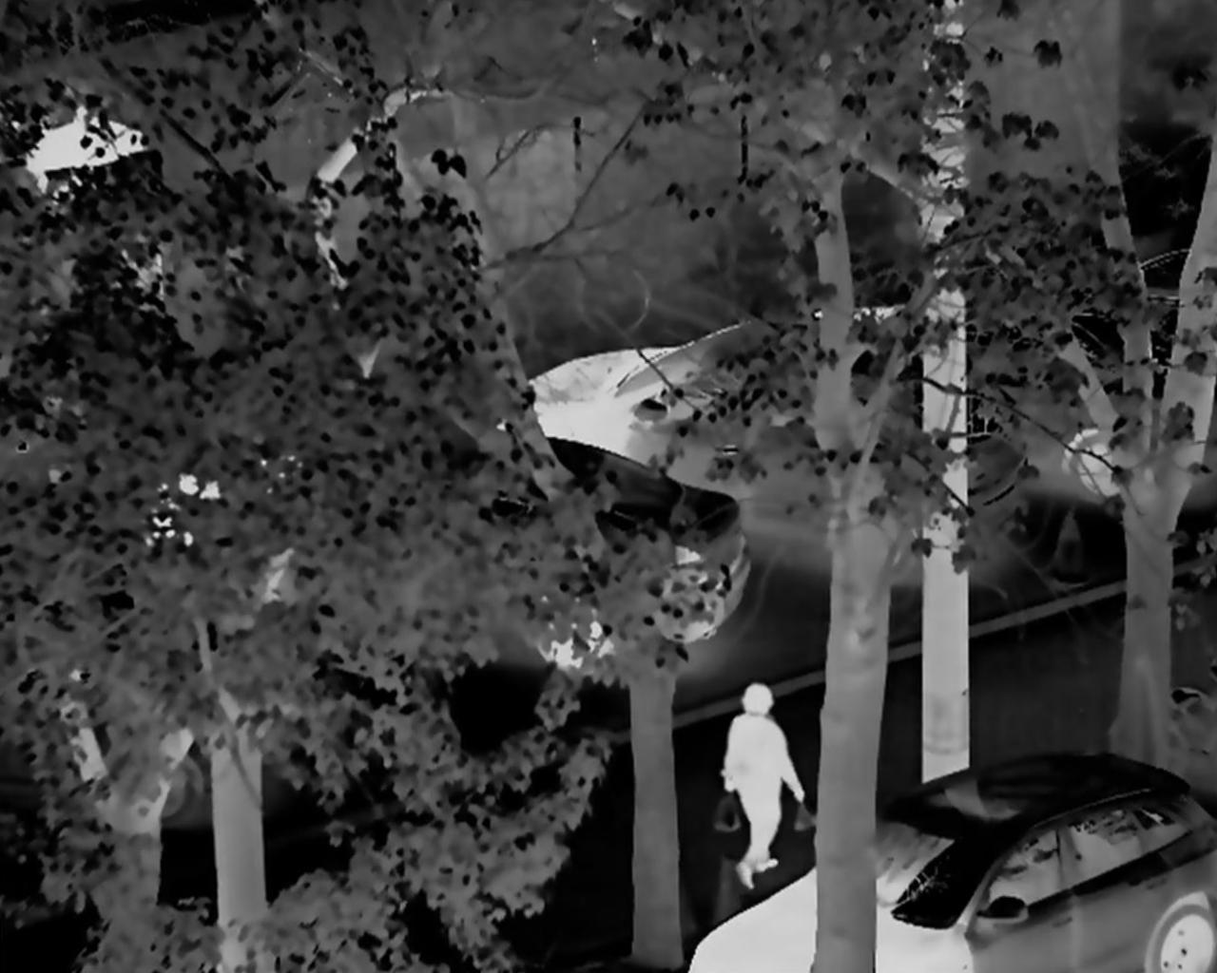person: (714, 678, 808, 893)
